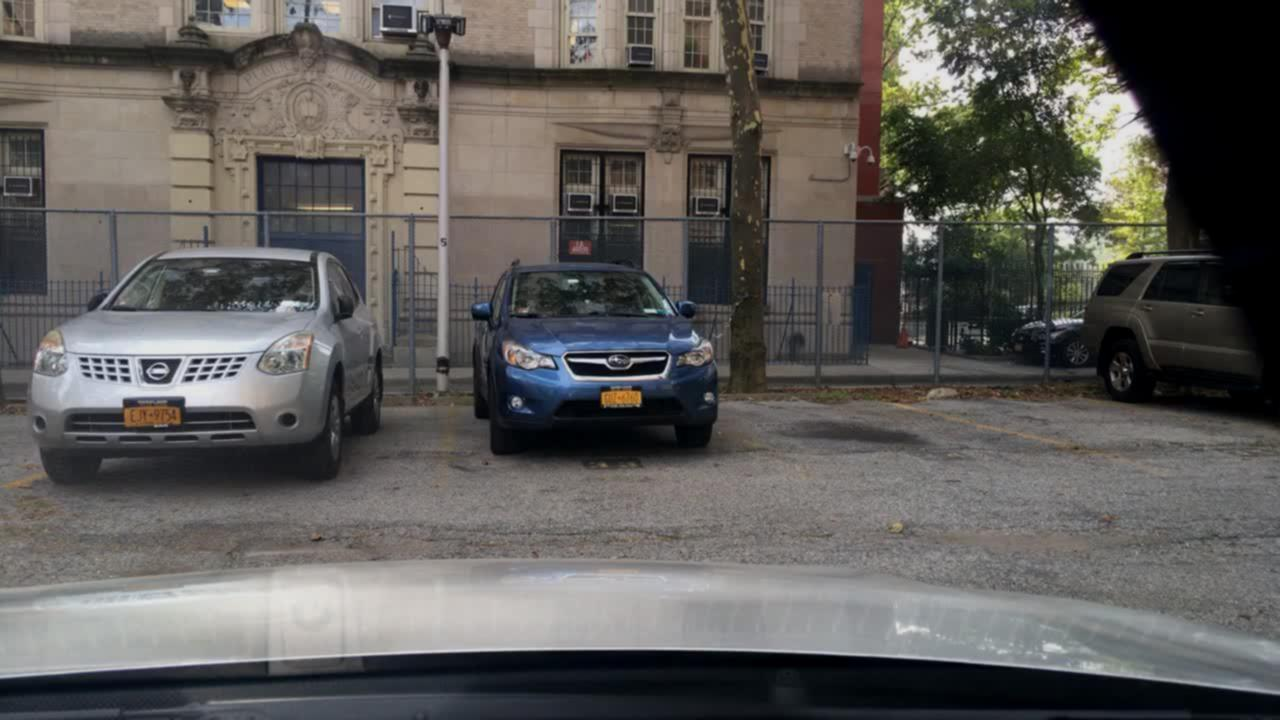Nissan: (138, 347, 177, 395)
subaru: (596, 348, 640, 372)
